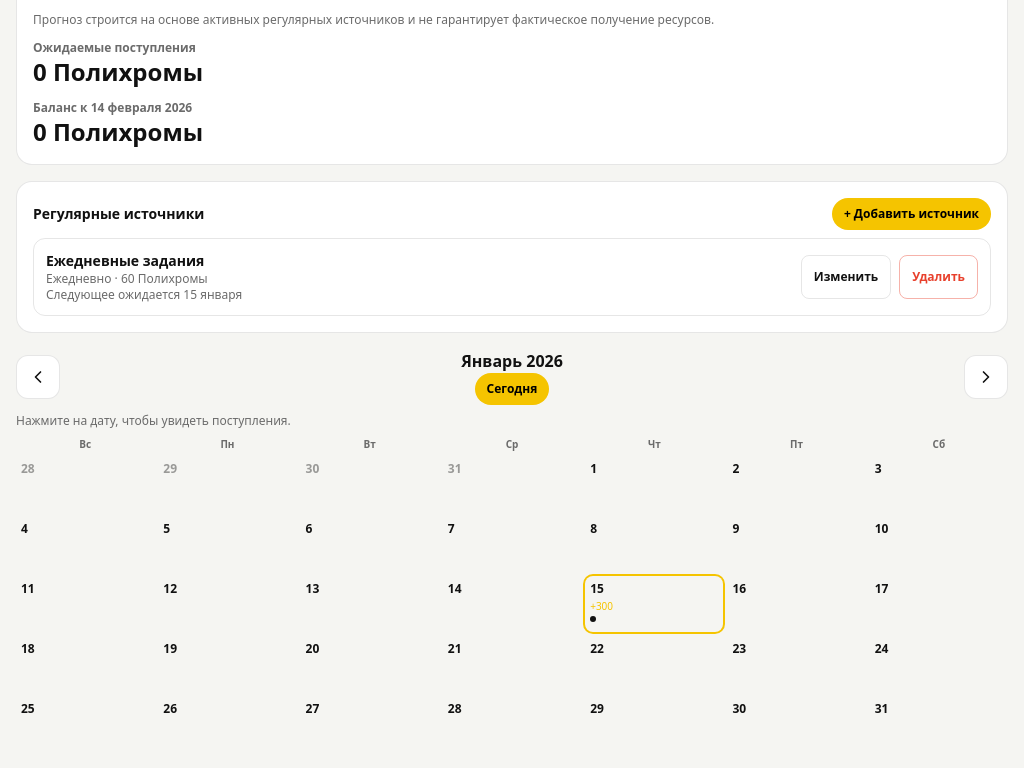
Scenario: Calendar modal dialogs — systematic accessibility pass › a day-detail sheet with a nested delete-confirmation: Escape closes only the nested confirm, not the whole sheet
(page scrolled)
Click the button named "2026-01-15" at point(654, 604), box x1=585 y1=576 x2=723 y2=632
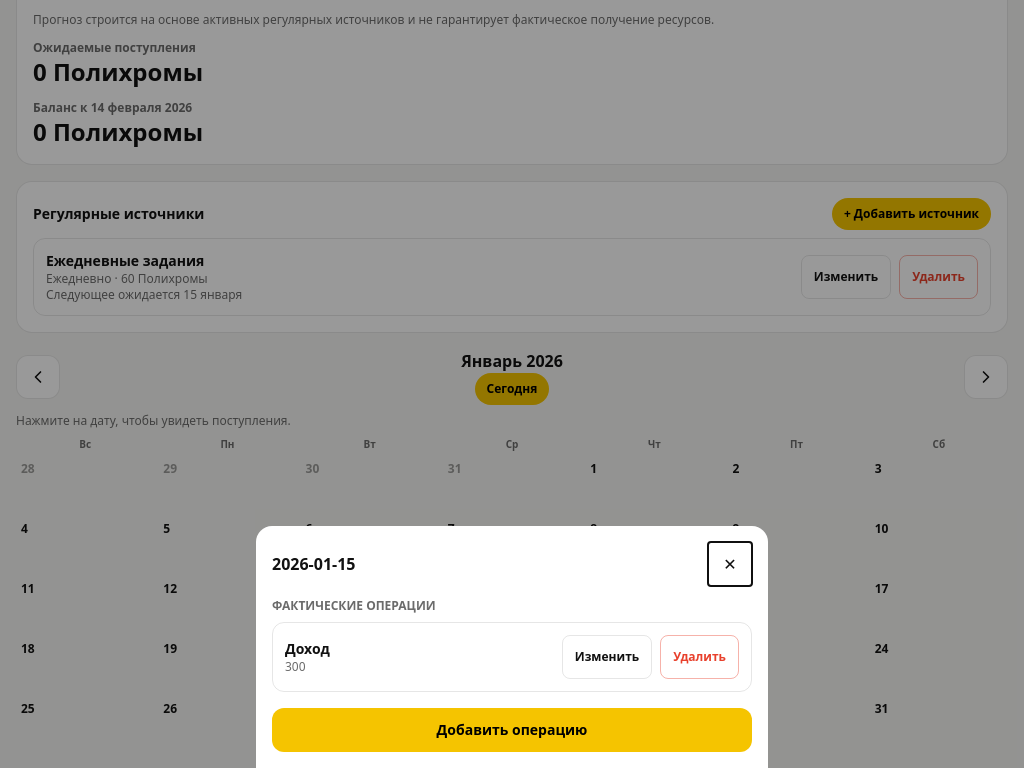
Click the button "Удалить" at point(700, 657), box x1=660 y1=635 x2=739 y2=679
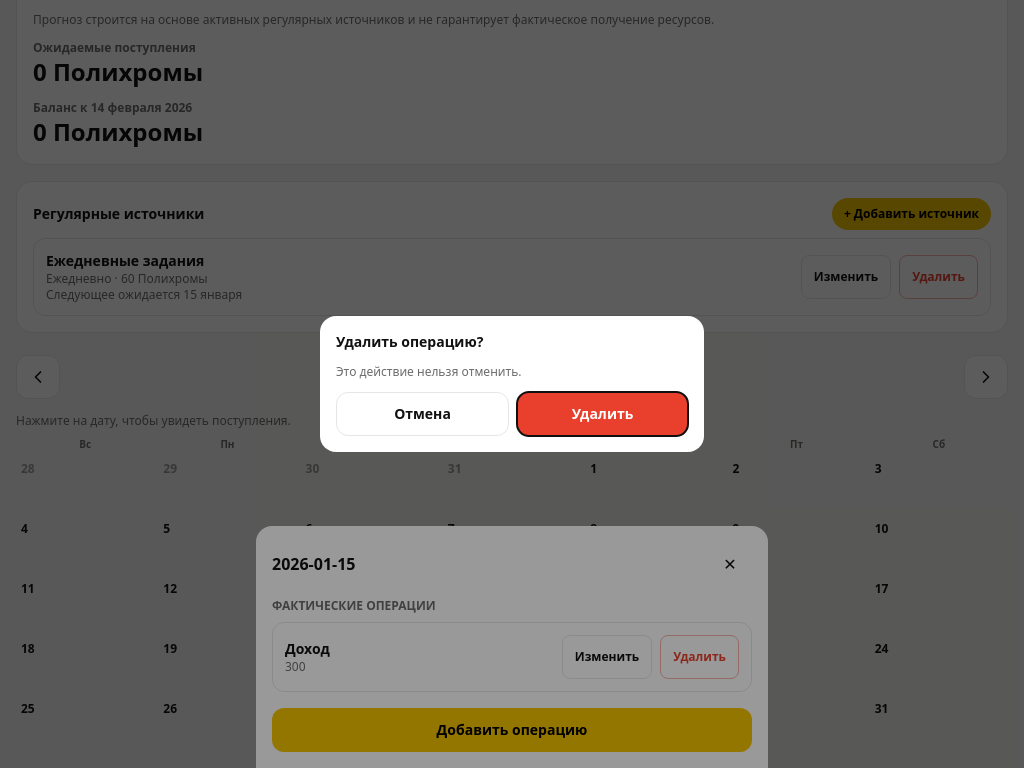
Press Escape
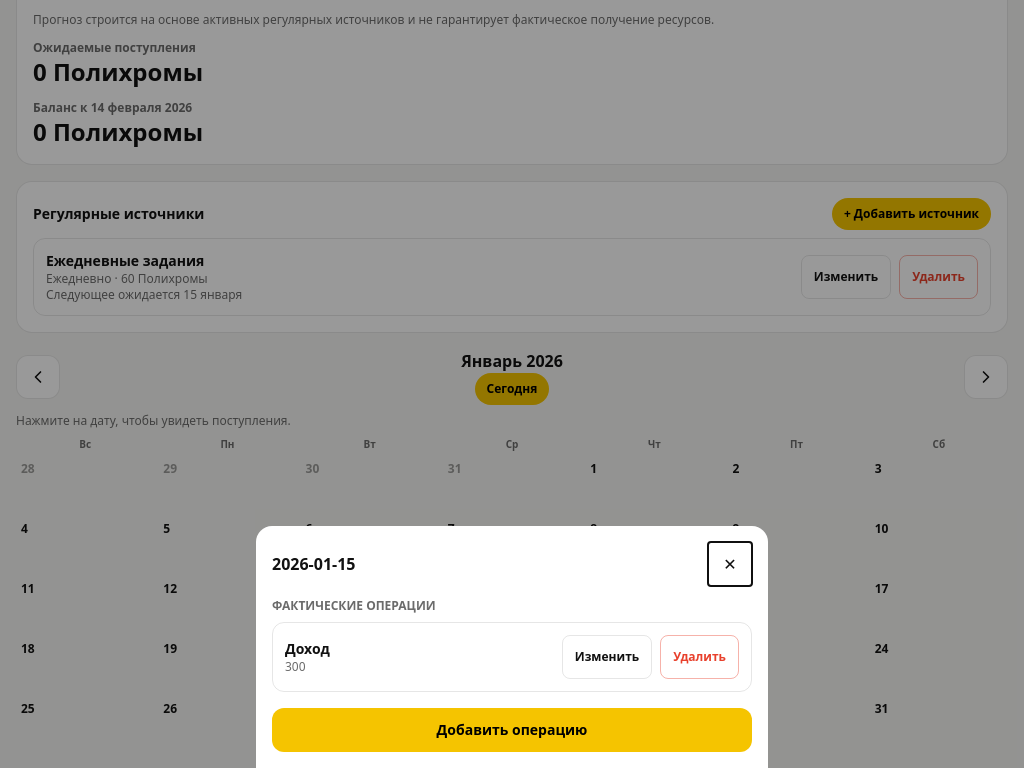
expect the dialog "2026-01-15" is shown: met
expect the heading "Удалить операцию" is gone: met
